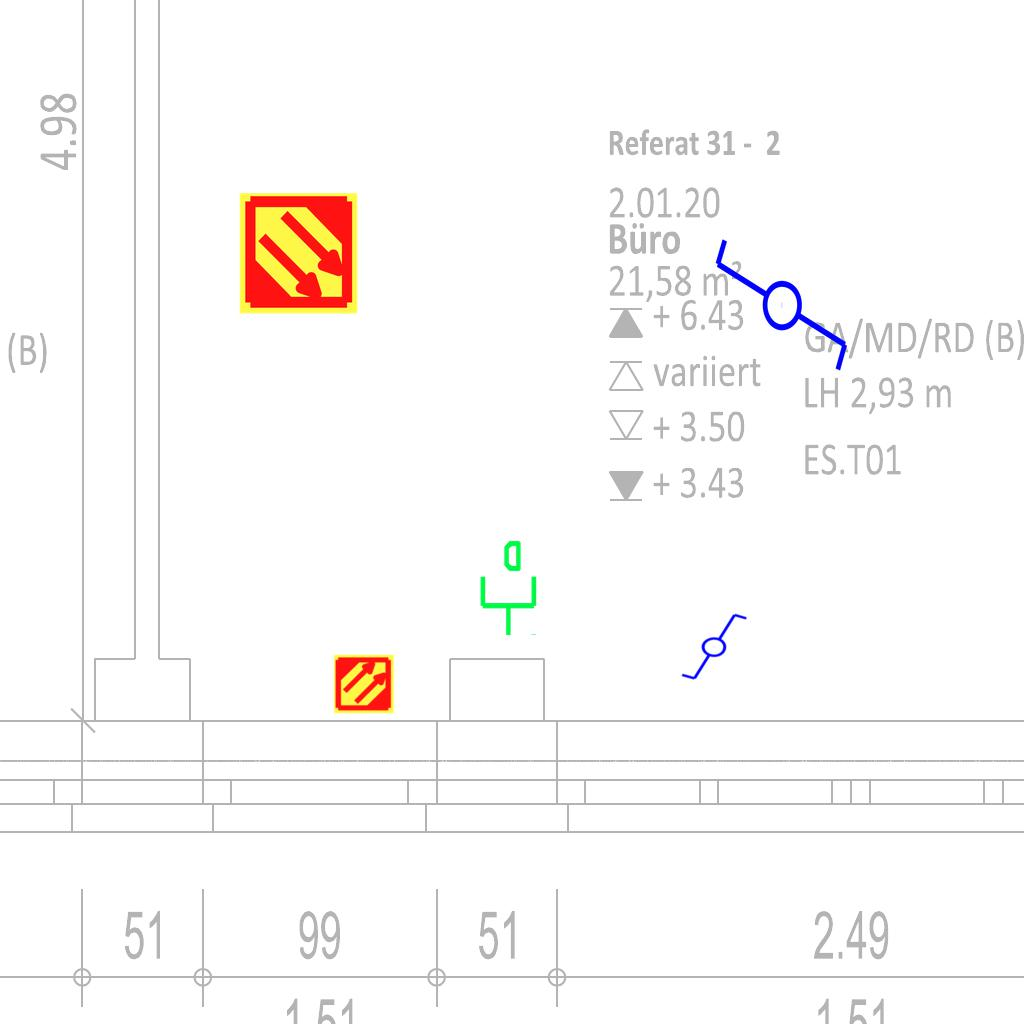ASR_Ansaugrauchmelder: (236, 191, 361, 316), (333, 653, 395, 715)
Datenanschluss_einfach: (472, 538, 541, 638)
Wechselschalter: (708, 235, 852, 392), (671, 610, 749, 682)
